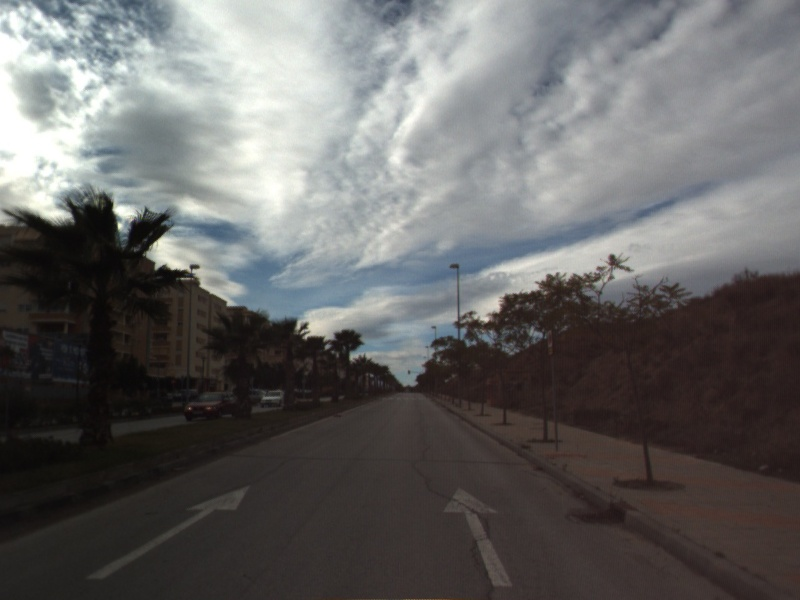STRAIGHT: (85, 483, 252, 581), (441, 485, 515, 589)
